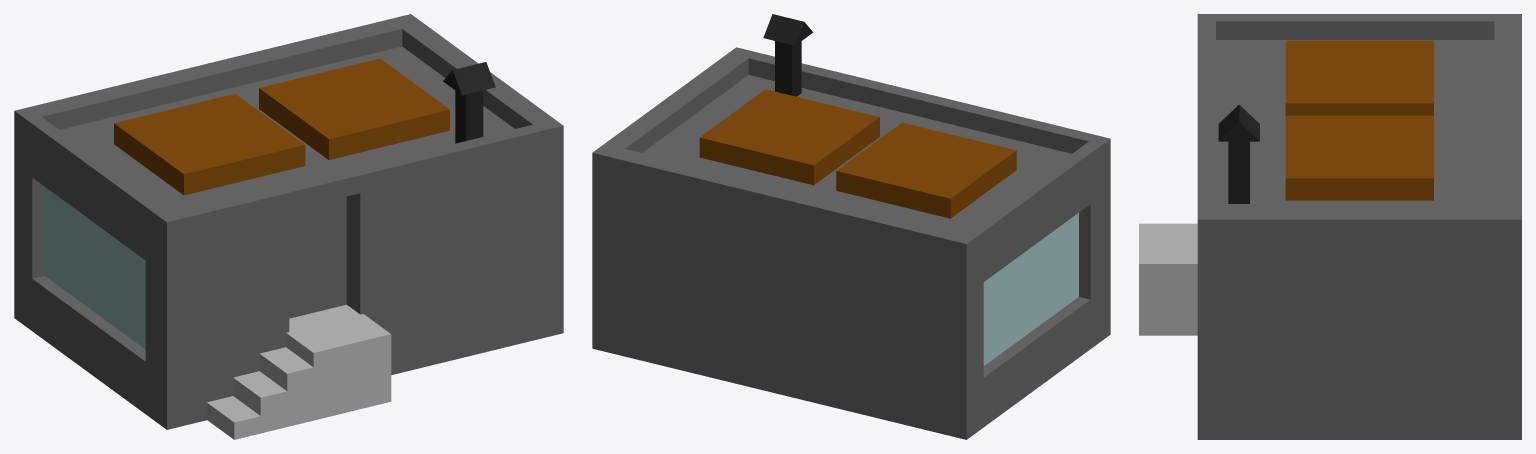
Rendered from house.glb.
3 views of the same model, side by side, from view 1: azimuth 30°, elevation 25°; view 2: azimuth 150°, elevation 25°; view 3: azimuth 270°, elevation 25° (orthographic). The views are drawn at different scales.
Parts seen in each view (by area): view 1: house; view 2: house; view 3: house.
Boxes of the visible parts, x1,y1,x2,y2 form: house: (14, 14, 563, 439); house: (592, 14, 1110, 439); house: (1139, 14, 1521, 439).
Bounding box in the file's own units: 15 × 9.8 × 11.81.
1 material, 1 textured.
